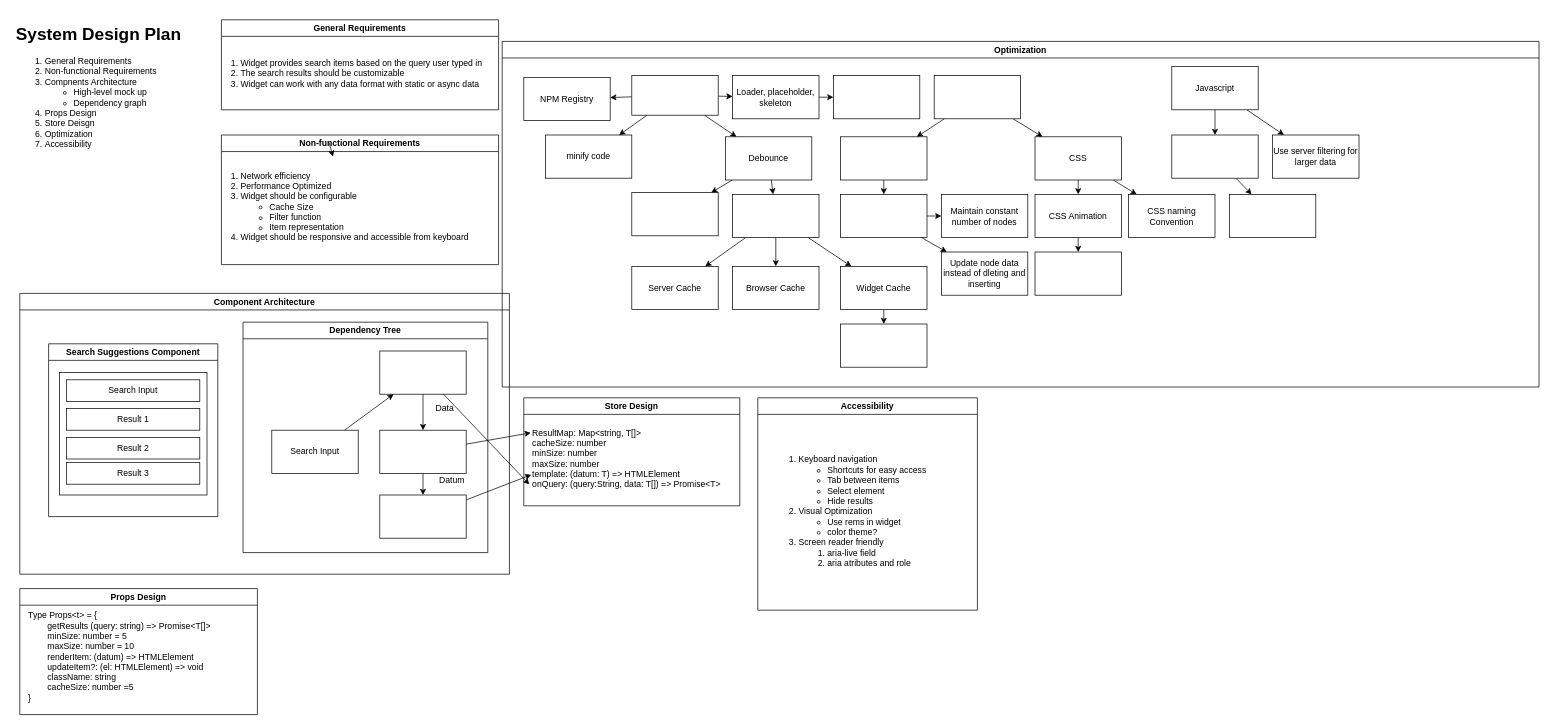
Image size: 1552x727. Some labels were removed from this diagram. The centre of each missing label's shape, as x and y in pixels:
"Avoid reflow" goes at (1077,273).
"Cache" goes at (775,216).
"Clear Cache" goes at (883,345).
"Do stuff async" goes at (1214,156).
"DOM" goes at (883,158).
"Error State" goes at (876,97).
"Network" goes at (674,95).
"Redundent Request cancel" goes at (674,214).
"Render" goes at (977,97).
"Search Suggestions" goes at (422,372).
"Suggestion List" goes at (422,451).
"Suggestion Result" goes at (422,516).
"Virtualization" goes at (883,216).
"Web workers for static filtering of many elements" goes at (1272,216).
